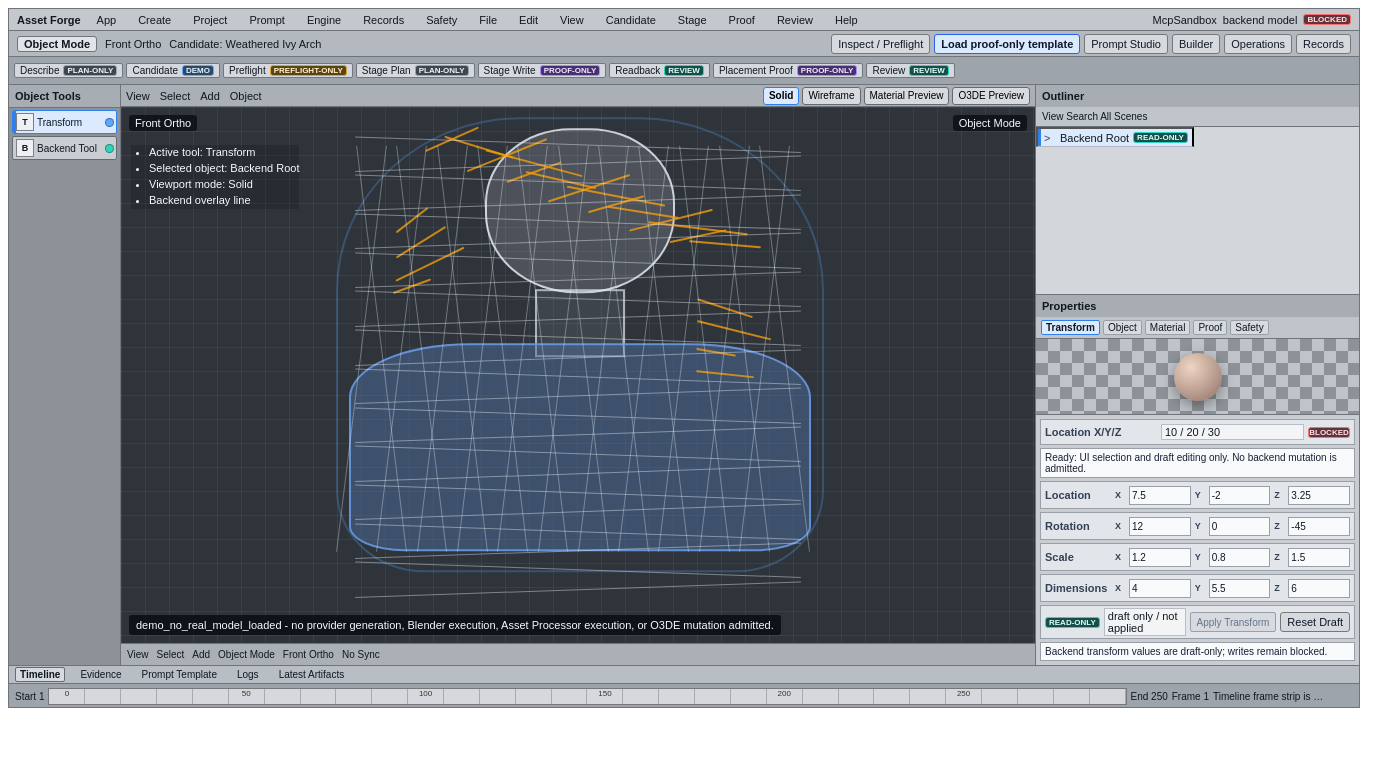
Test: AssetForgeBlenderCockpit › renders material and safety rows from backend editor-model content
Click the button "Material" at (1168, 328), box [1145,320,1190,335]
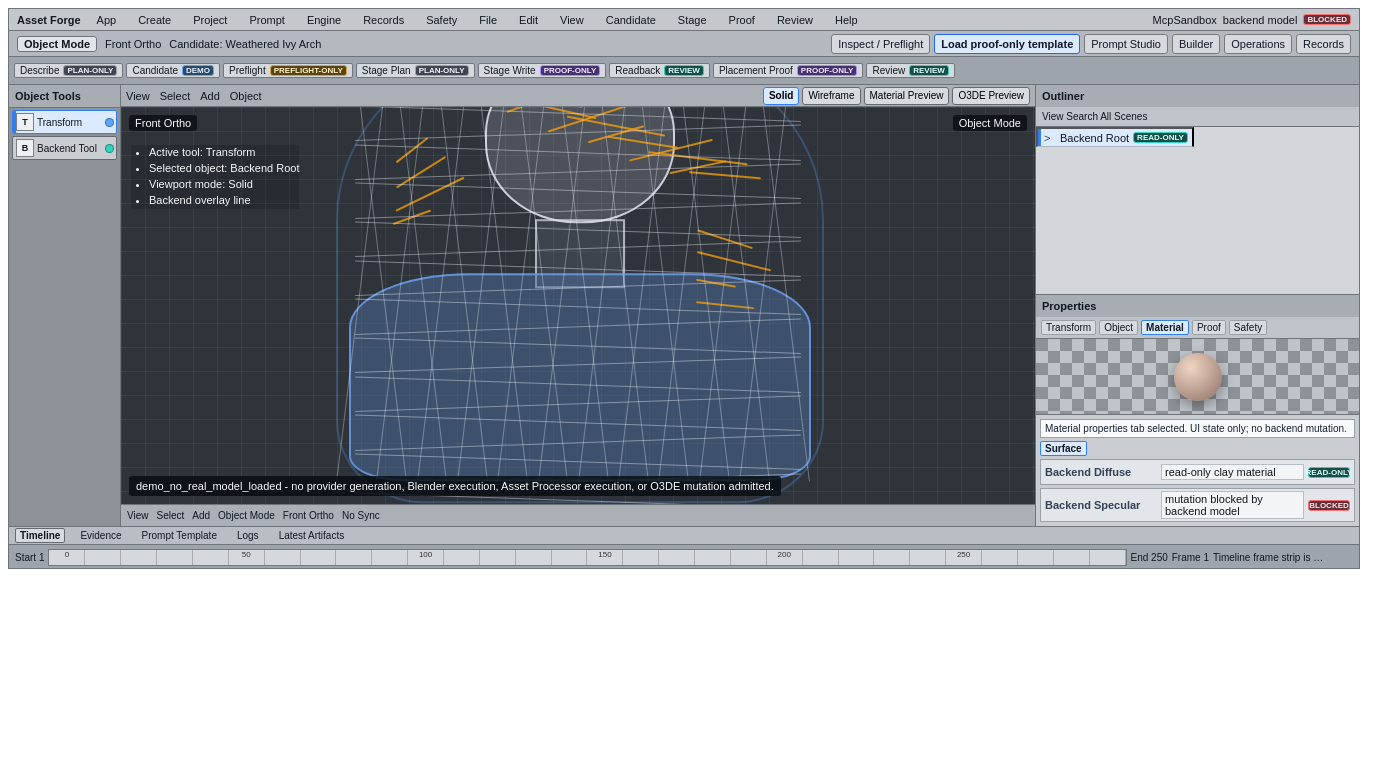
Expected: the text "Backend Diffuse" is shown, [1045,466,1131,478]
Expected: the text "read-only clay material" is shown, [1161,464,1304,480]
Expected: the text "Backend Specular" is shown, [1045,499,1157,511]
Click the button "Safety" below "View Search All Scenes" at (1248, 328), box [1229,320,1267,335]
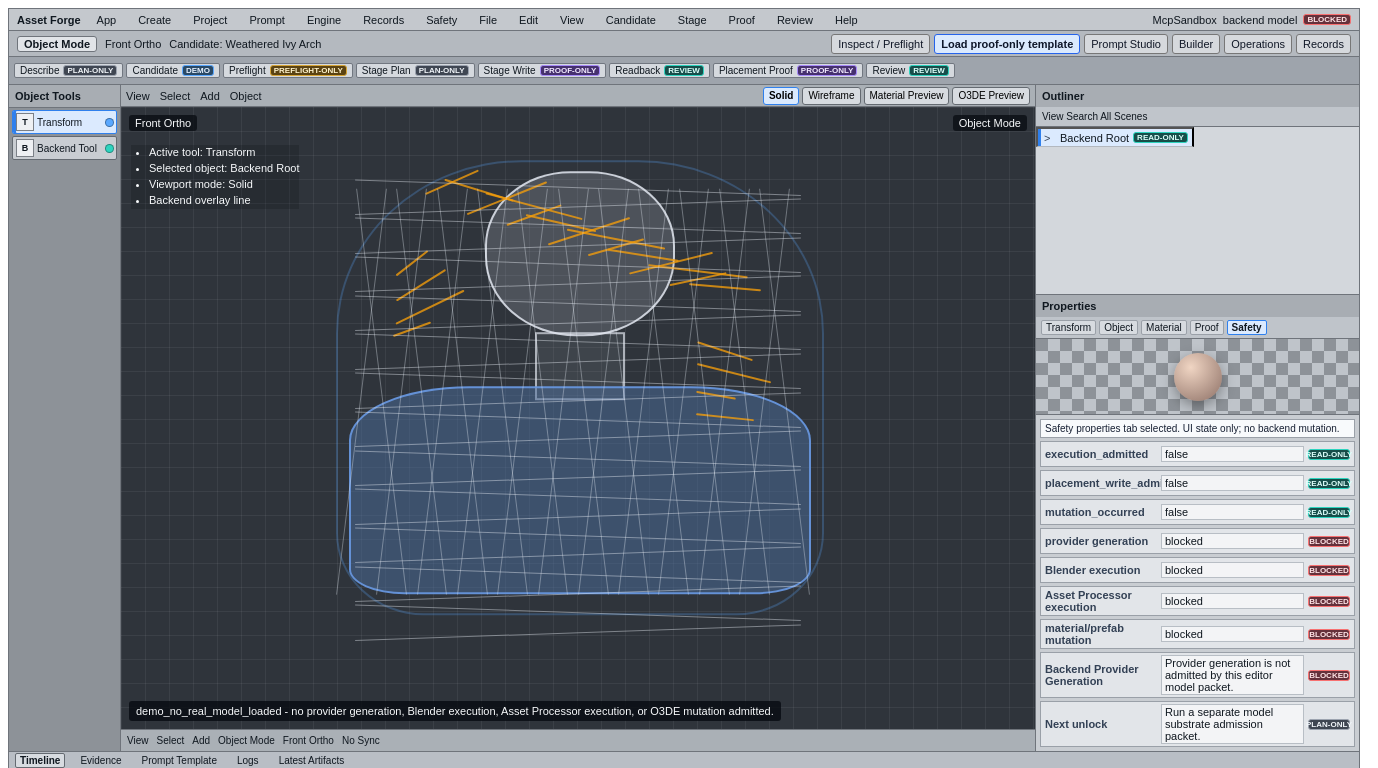
Expected: the text "Backend Provider Generation" is shown, [1045,663,1138,687]
Expected: the text "Provider generation is not admitted by this editor model packet." is shown, [1161,655,1304,695]
Expected: the text "Run a separate model substrate admission packet." is shown, [1161,704,1304,744]
